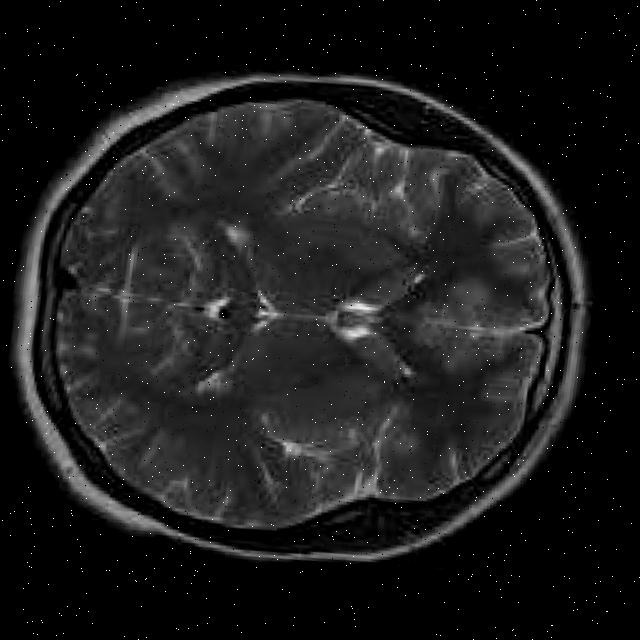NoTumor: (23, 54, 582, 577)
